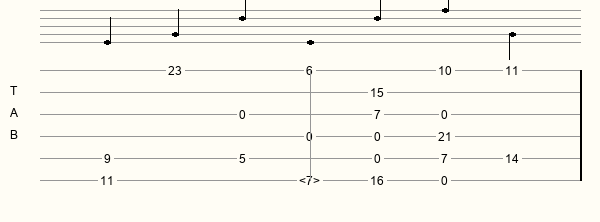0: (239, 108, 250, 121), (306, 130, 317, 143), (374, 152, 385, 165), (374, 130, 385, 143), (441, 174, 452, 187), (441, 108, 452, 121)
10: (438, 64, 456, 77)
11: (100, 174, 118, 187), (505, 64, 523, 77)
14: (505, 152, 523, 165)
15: (370, 86, 388, 99)
16: (370, 174, 388, 187)
21: (438, 130, 456, 143)
23: (168, 64, 186, 77)
5: (239, 152, 250, 165)
6: (306, 64, 317, 77)
7: (374, 108, 385, 121), (441, 152, 452, 165)
9: (104, 152, 115, 165)
harmonic: (299, 174, 324, 187)
